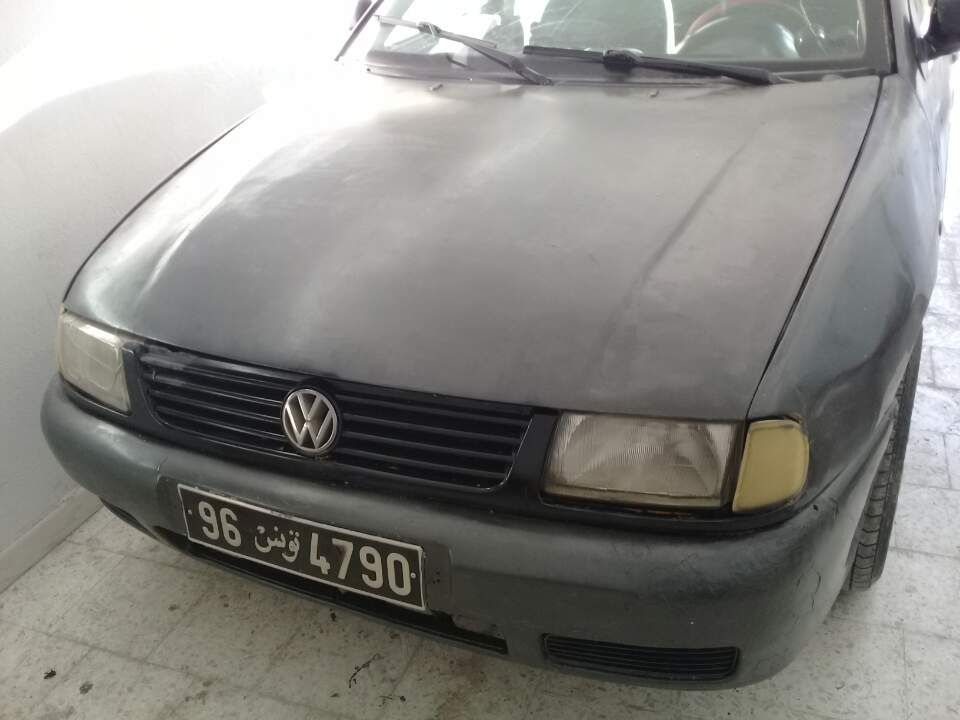LP: (175, 483, 427, 616)
